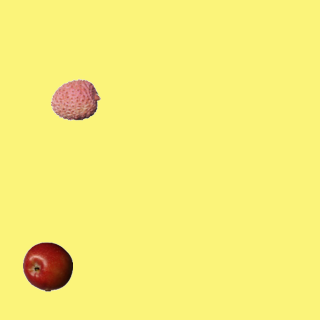Apple Braeburn: (22, 241, 72, 291)
Lychee: (50, 74, 100, 124)
